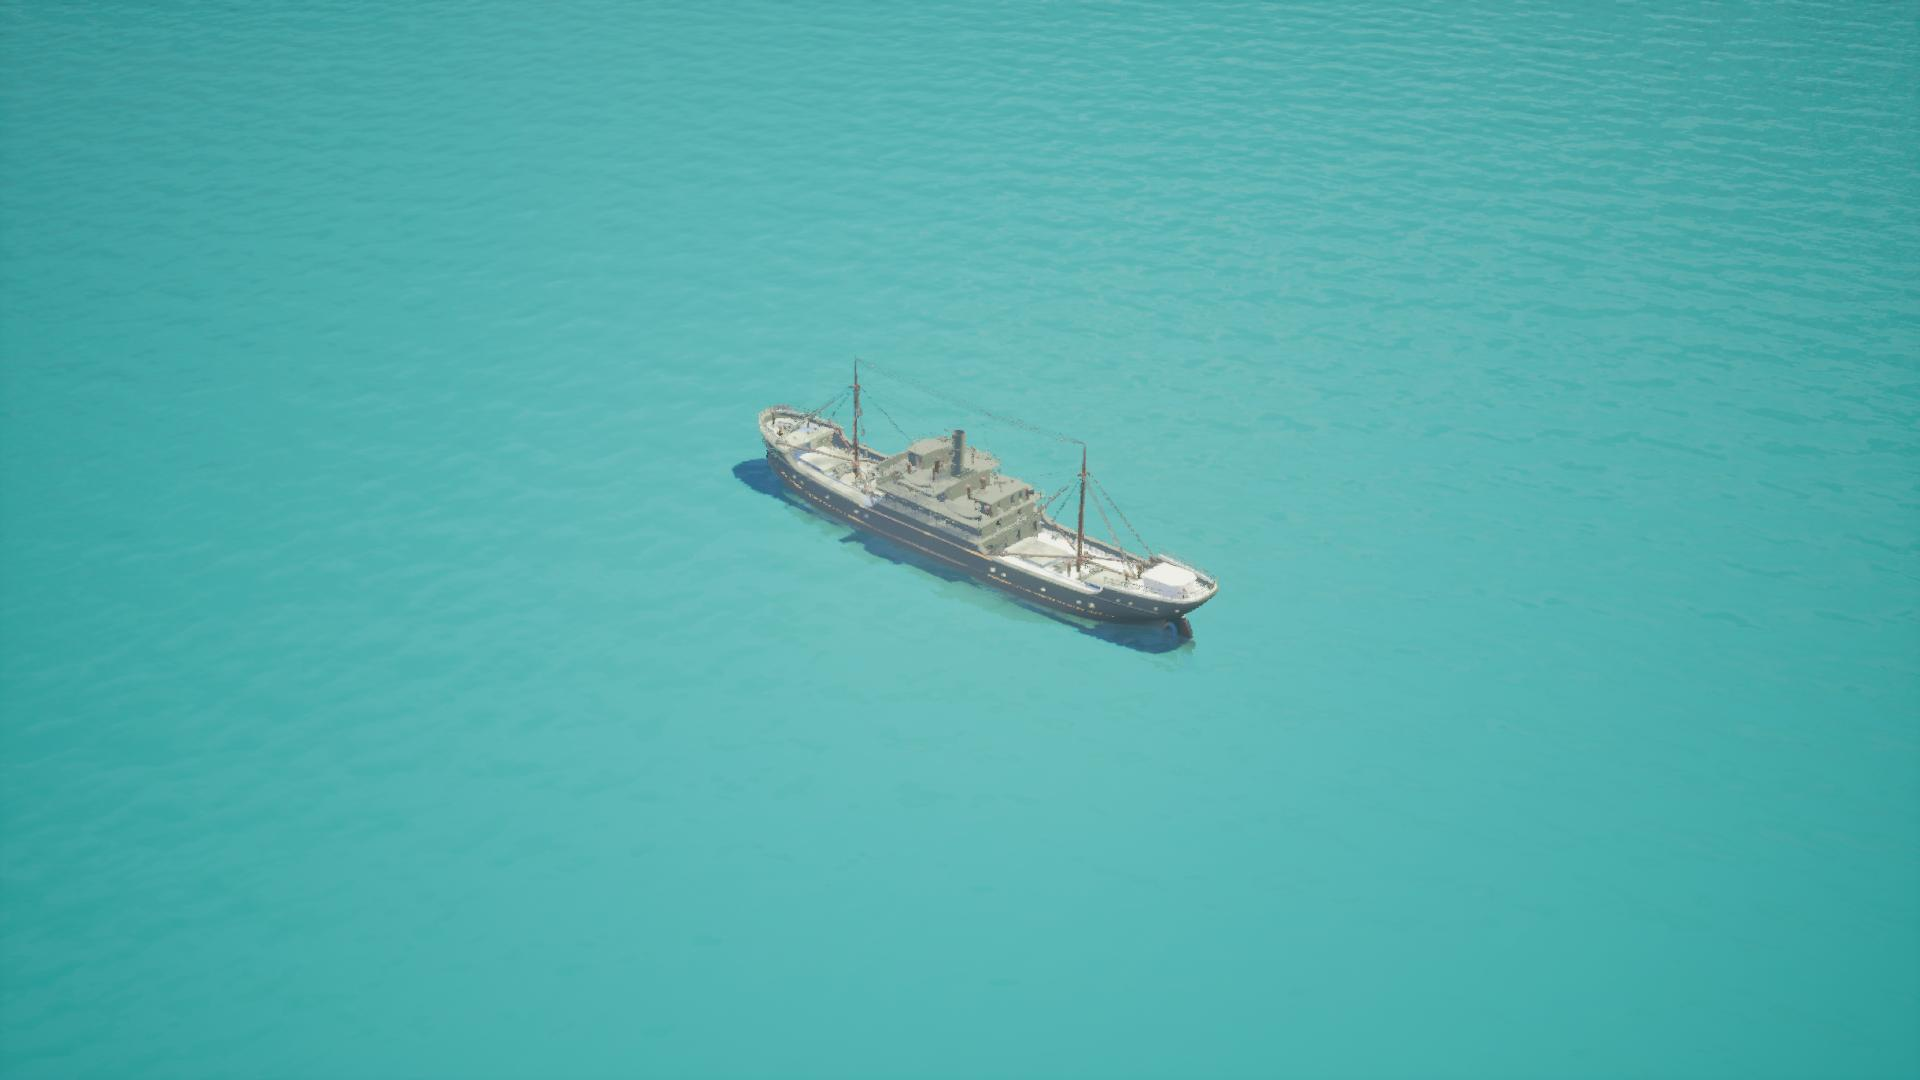Fishing Boat: (744, 373, 1213, 650)
